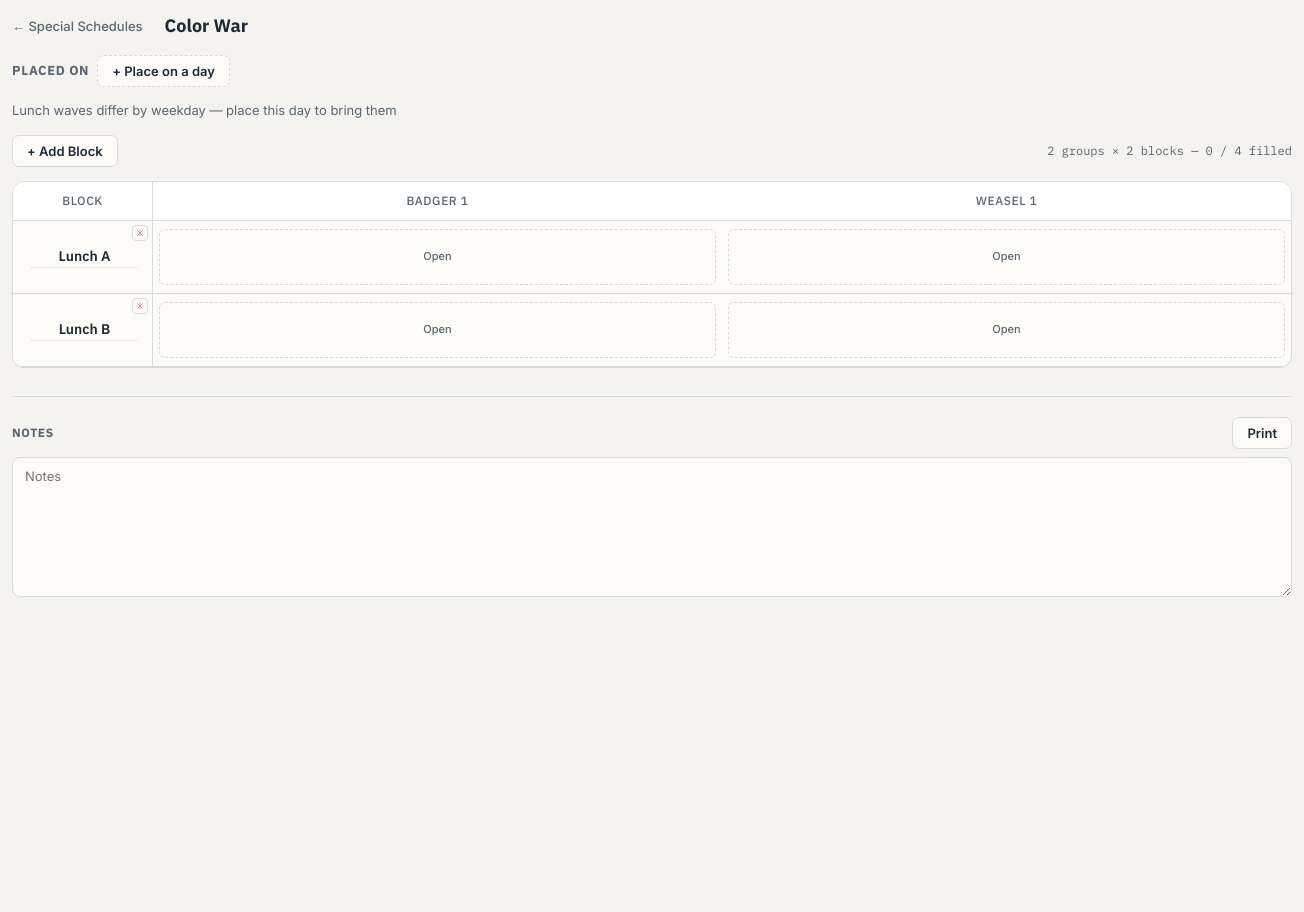
it: placing a special day opens the weekday offer › auto-opens with every event ticked, and Bring places them into their own groups
Click the button "+ Place on a day". click: {"x": 164, "y": 71}
box: [97,55,230,87]
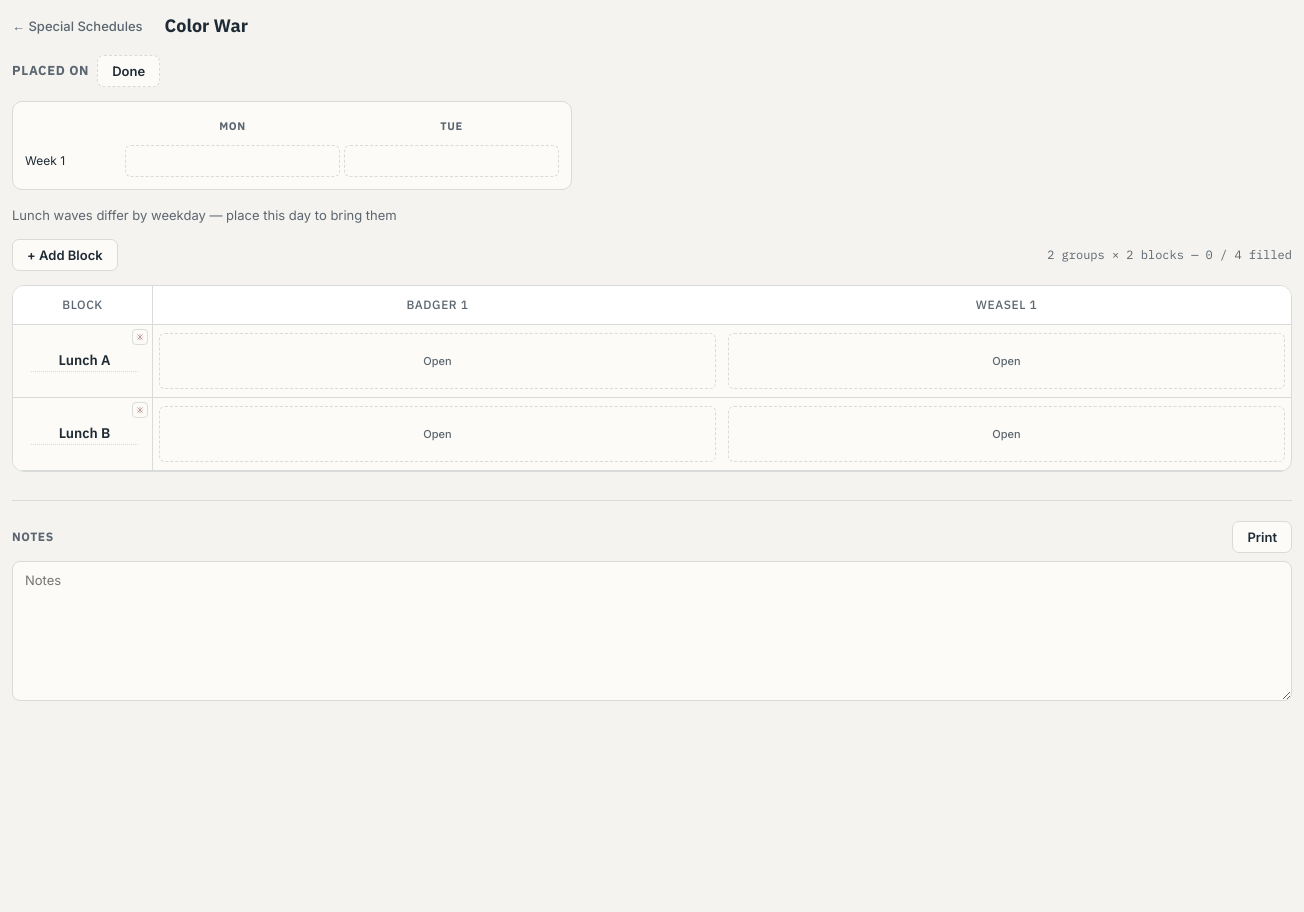
Click the button named "Week 1, Monday, free. Place Color War here.". click: {"x": 232, "y": 160}
box: [125,144,340,176]
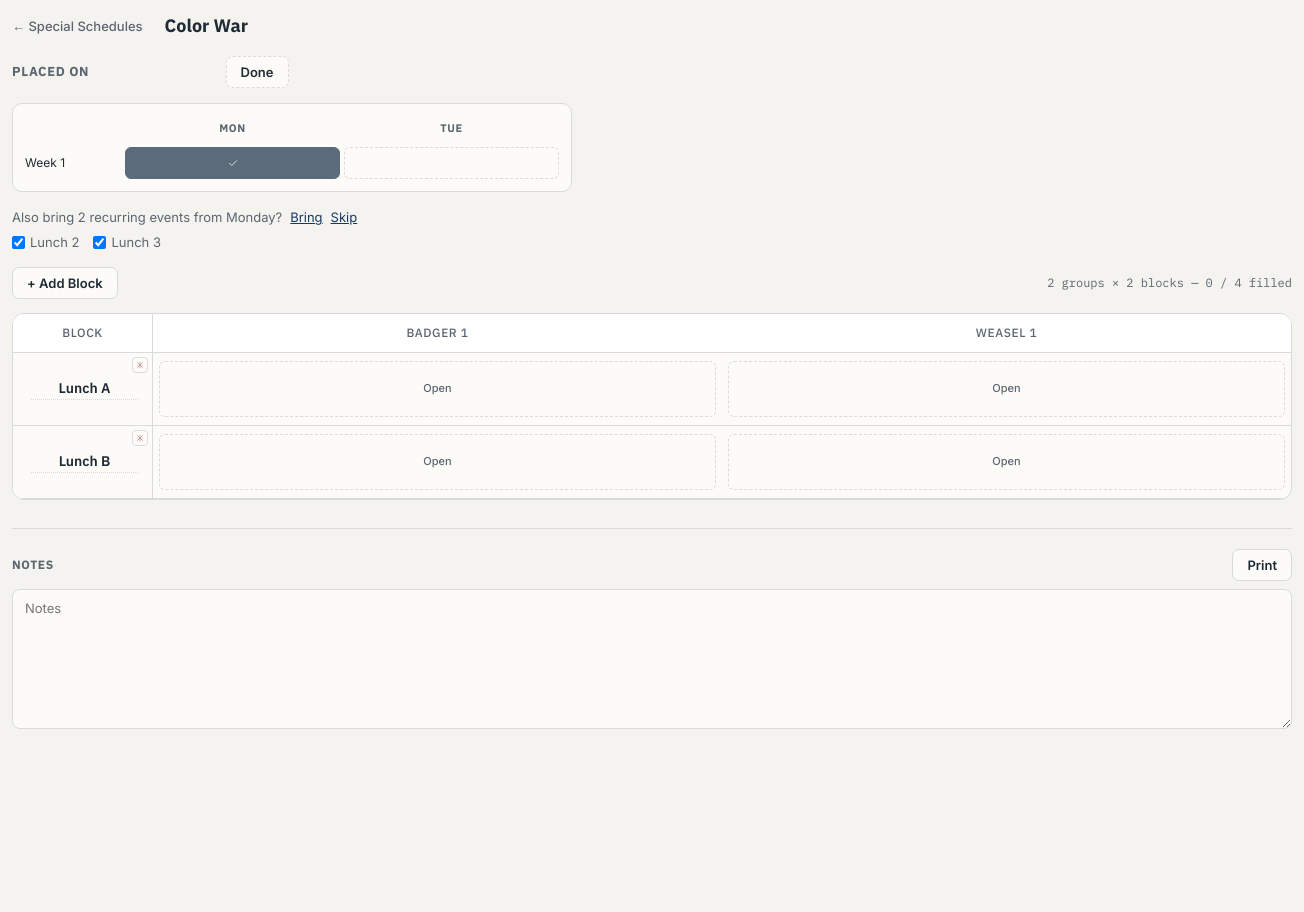
Check: the text "Also bring 2 recurring events from Monday?" is shown, box [12,208,282,227]
Check: the checkbox labelled "Lunch 2" is checked, box [12,236,25,249]
Check: the checkbox labelled "Lunch 3" is checked, box [93,236,106,249]
Click the button "Bring". click: {"x": 306, "y": 217}
box: [290,209,323,225]
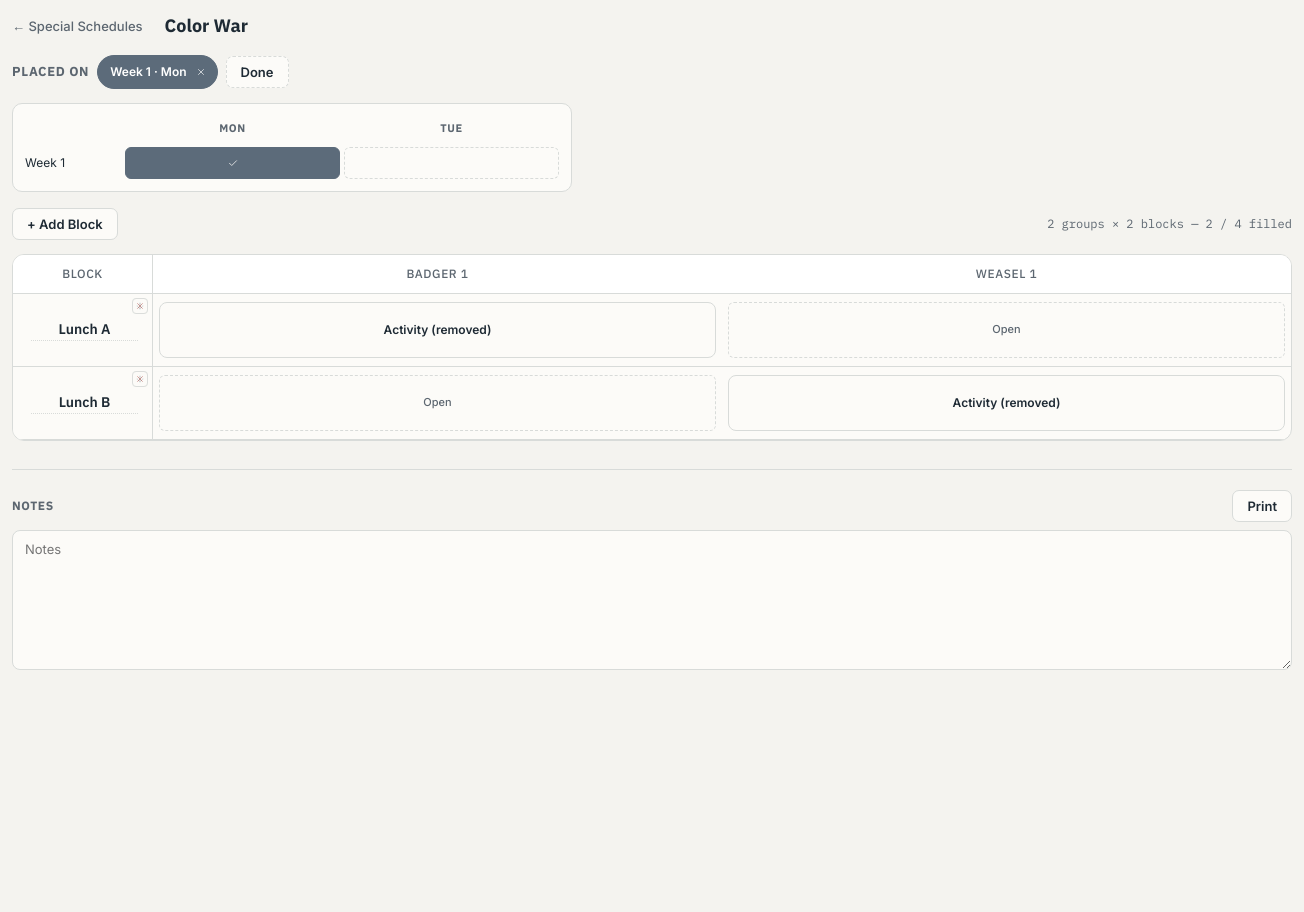
Check: the text "Also bring" is gone
